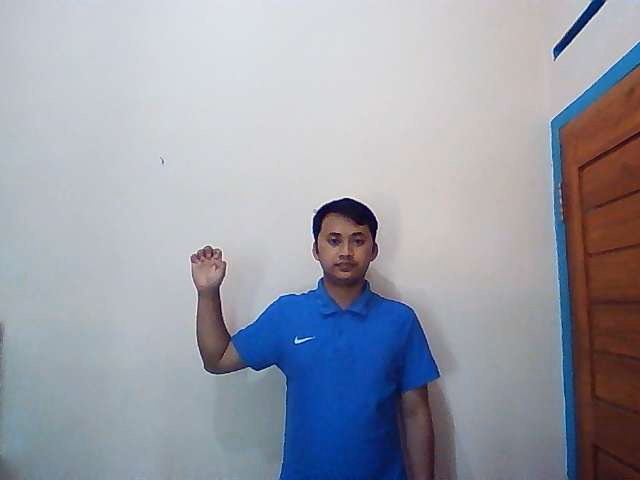E: (190, 246, 227, 292)
